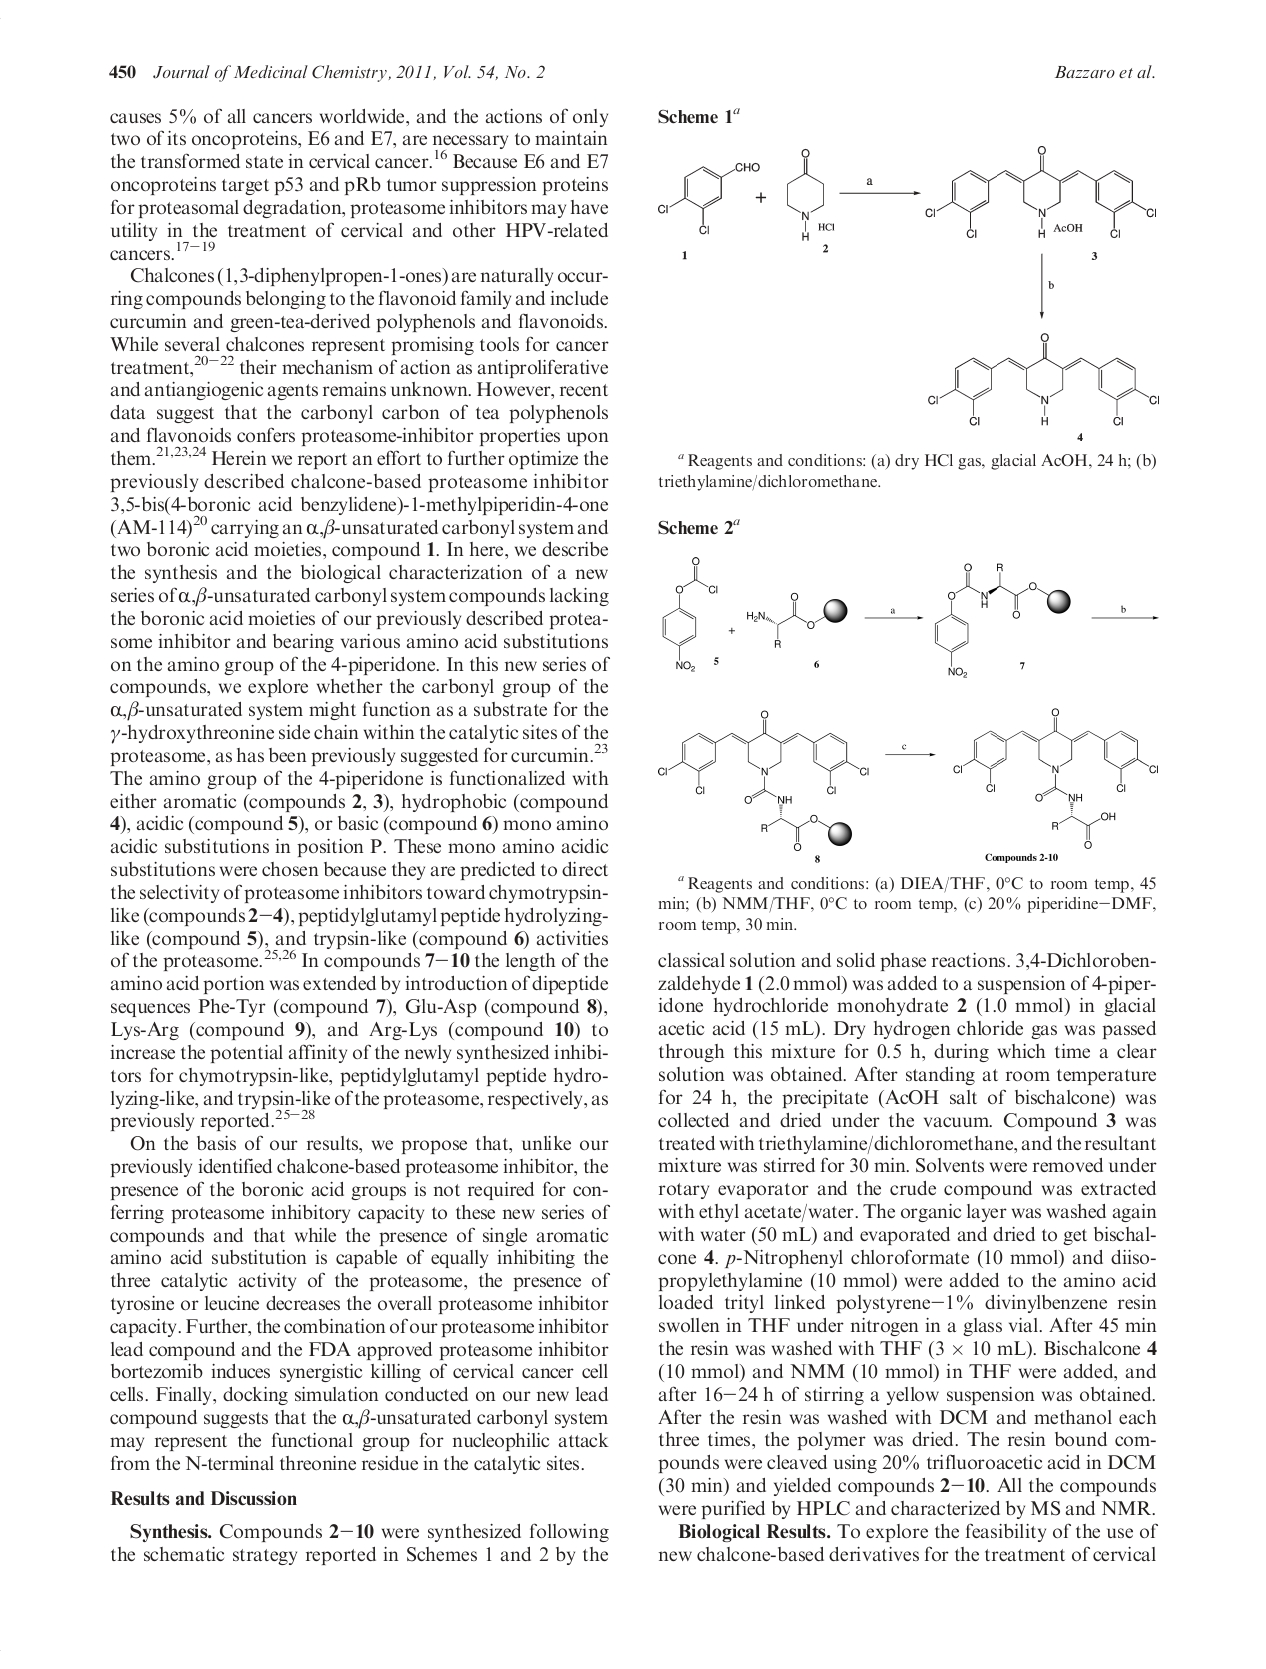exist_molecular: (949, 705, 1162, 850), (656, 709, 872, 850), (926, 144, 1160, 242), (926, 332, 1164, 428), (934, 560, 1075, 680), (654, 160, 761, 238), (660, 555, 719, 676), (743, 589, 850, 650), (783, 146, 838, 243)
